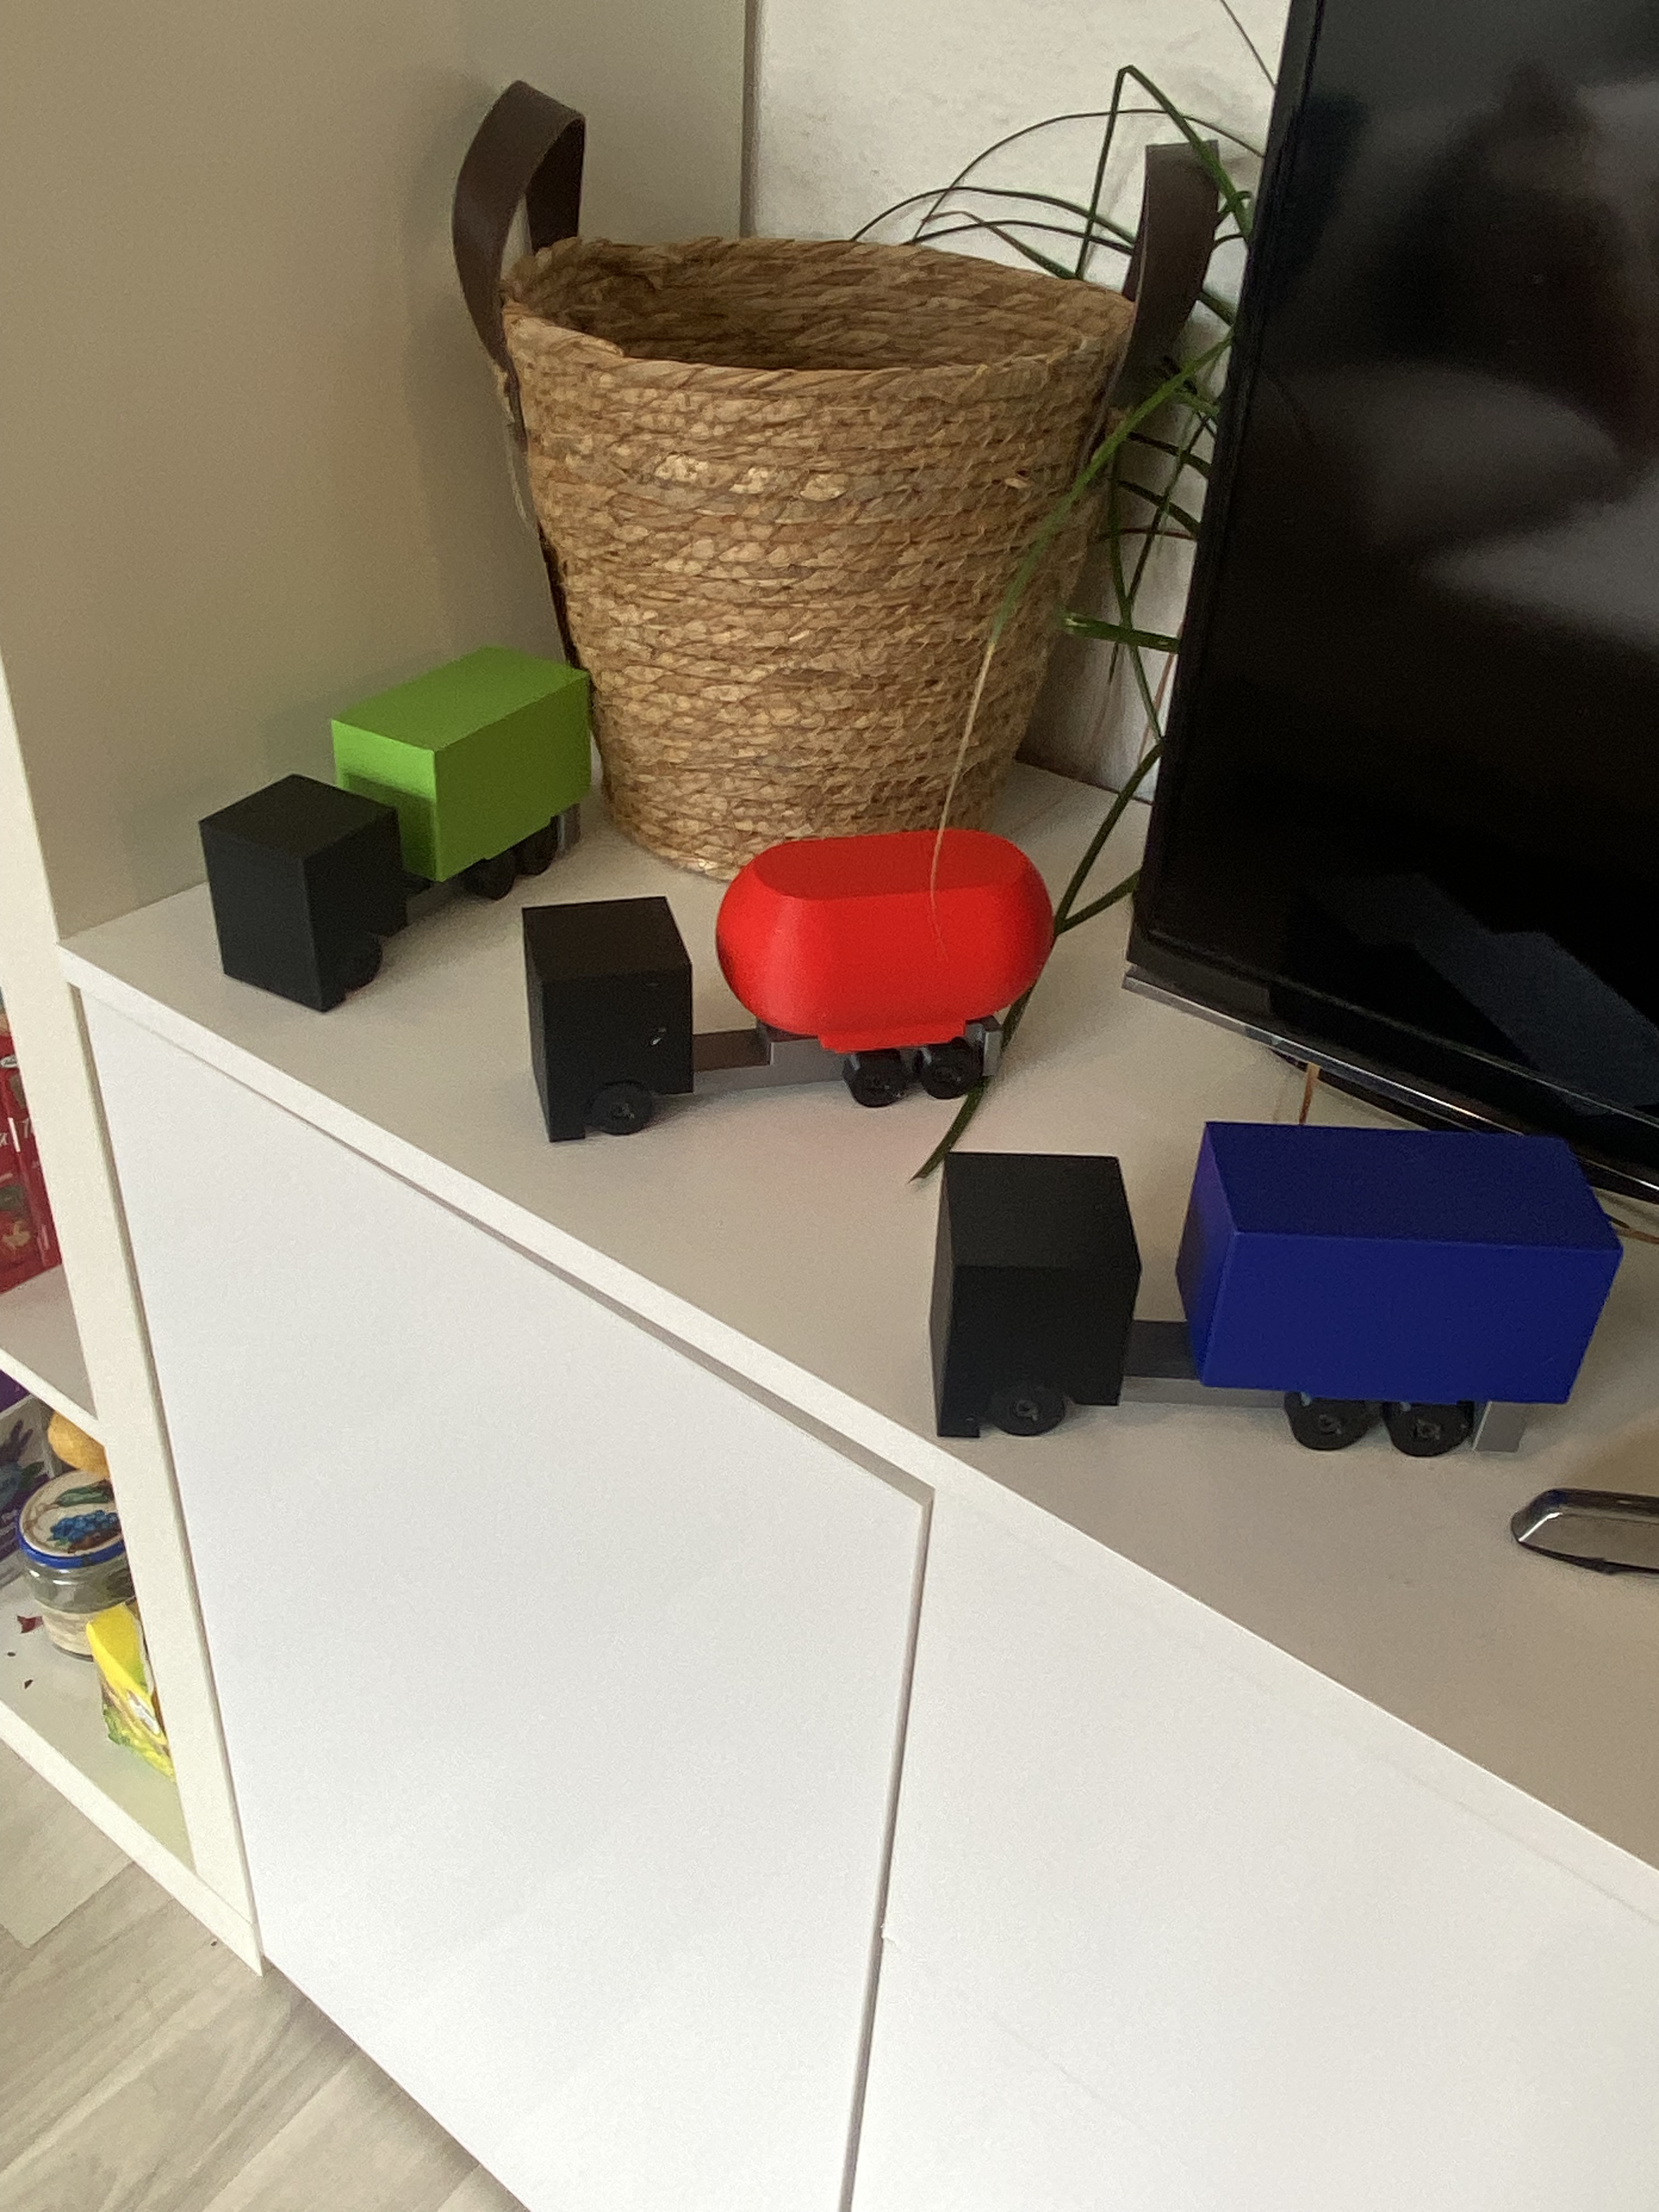blue_truck: (1096, 953, 1457, 1644)
green_truck: (178, 681, 629, 961)
red_truck: (650, 709, 929, 1261)
